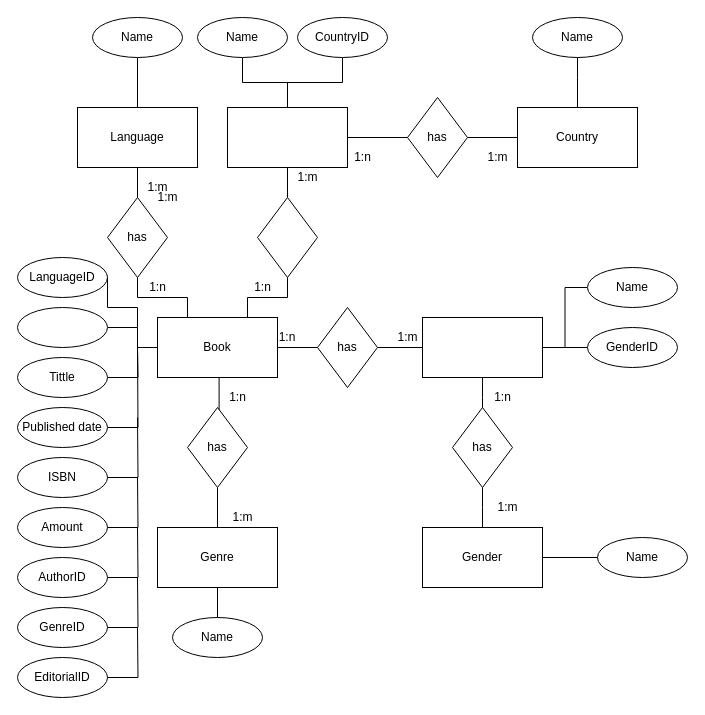
This 705x715 diagram has some shape labels left out. The shapes that lost their labels are listed below. From the top down, each one's centre as x and y in pixels, then its label:
At point (287, 137): "Editorial".
At point (287, 237): "published".
At point (62, 327): "Pages".
At point (482, 347): "Author".
